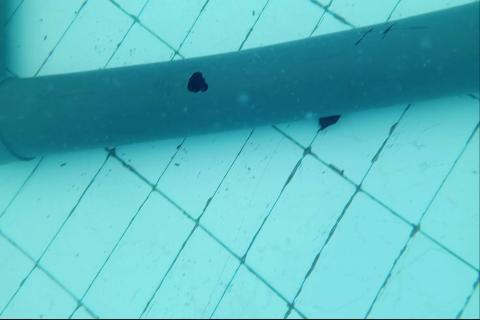kebocoran: (187, 69, 209, 94)
keretakan: (346, 20, 427, 45)
